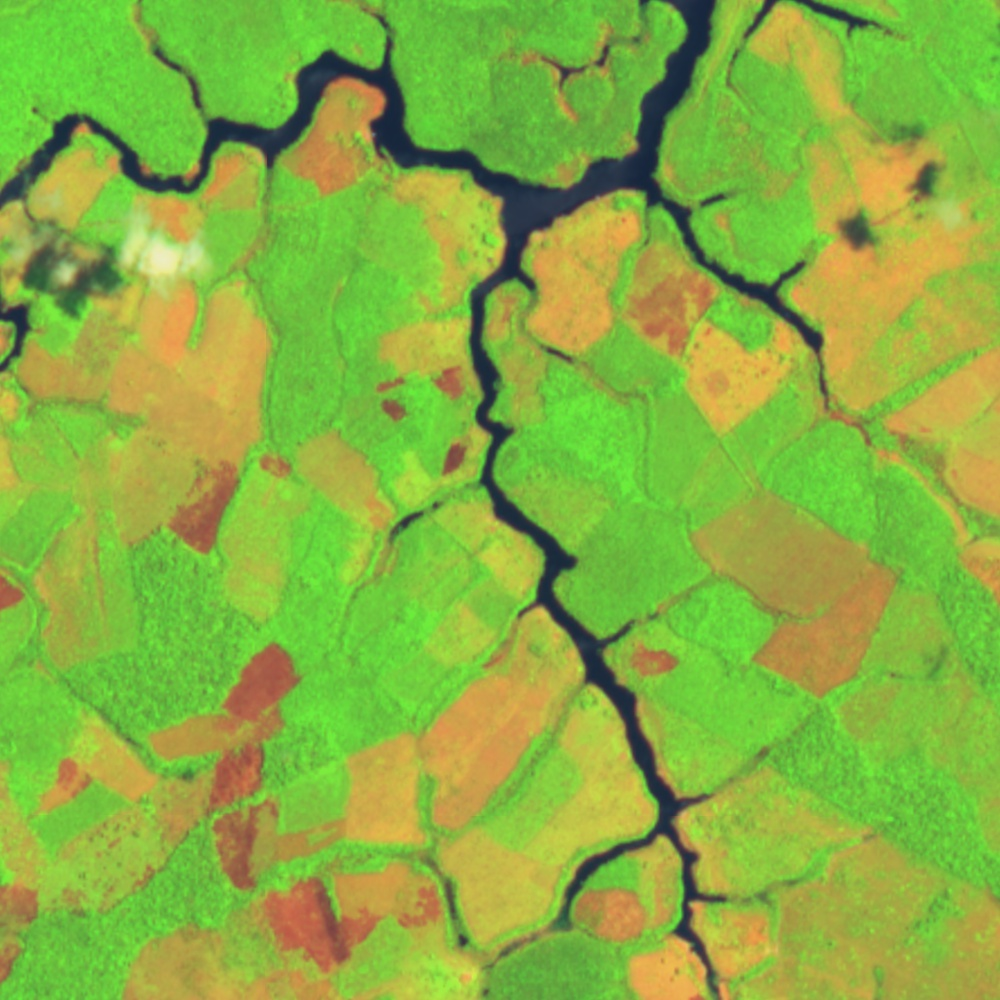legal: (1, 78, 392, 555), (421, 484, 756, 1000), (712, 2, 1000, 516), (1, 644, 306, 938), (119, 740, 435, 1000), (514, 185, 808, 430), (675, 483, 905, 699), (394, 158, 515, 482), (192, 635, 308, 896), (517, 1, 650, 125), (130, 1, 206, 116)
